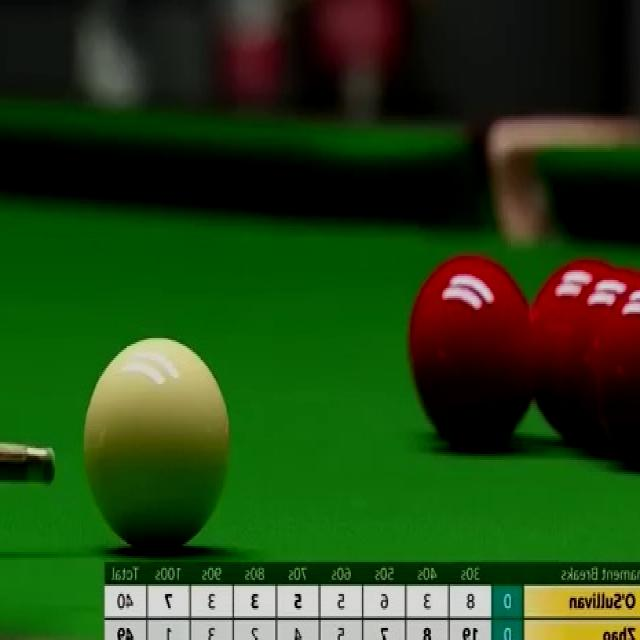red-ball: (406, 253, 534, 451), (532, 259, 613, 444), (564, 270, 639, 454), (599, 284, 639, 478)
white-ball: (80, 336, 232, 552)
